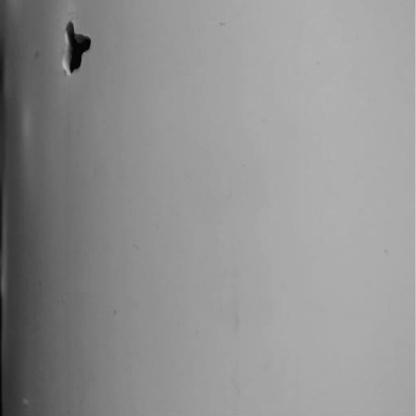kongdong: (53, 14, 96, 78)
